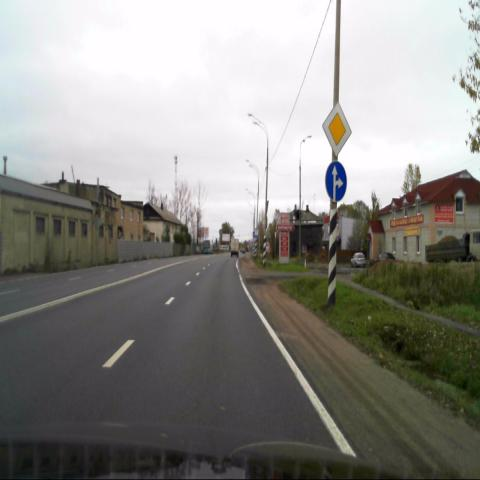4_1_4: (325, 160, 347, 200)
